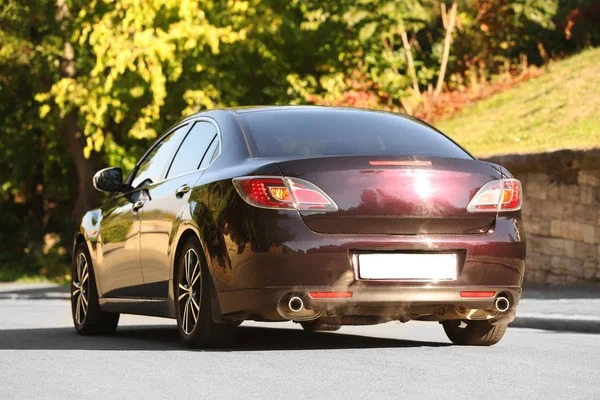car: (45, 108, 551, 353), (55, 119, 543, 340)
